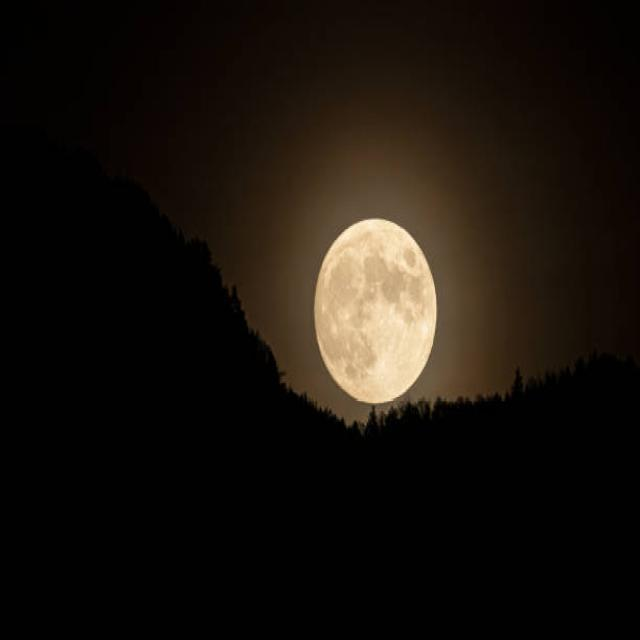moon: (310, 212, 438, 404)
